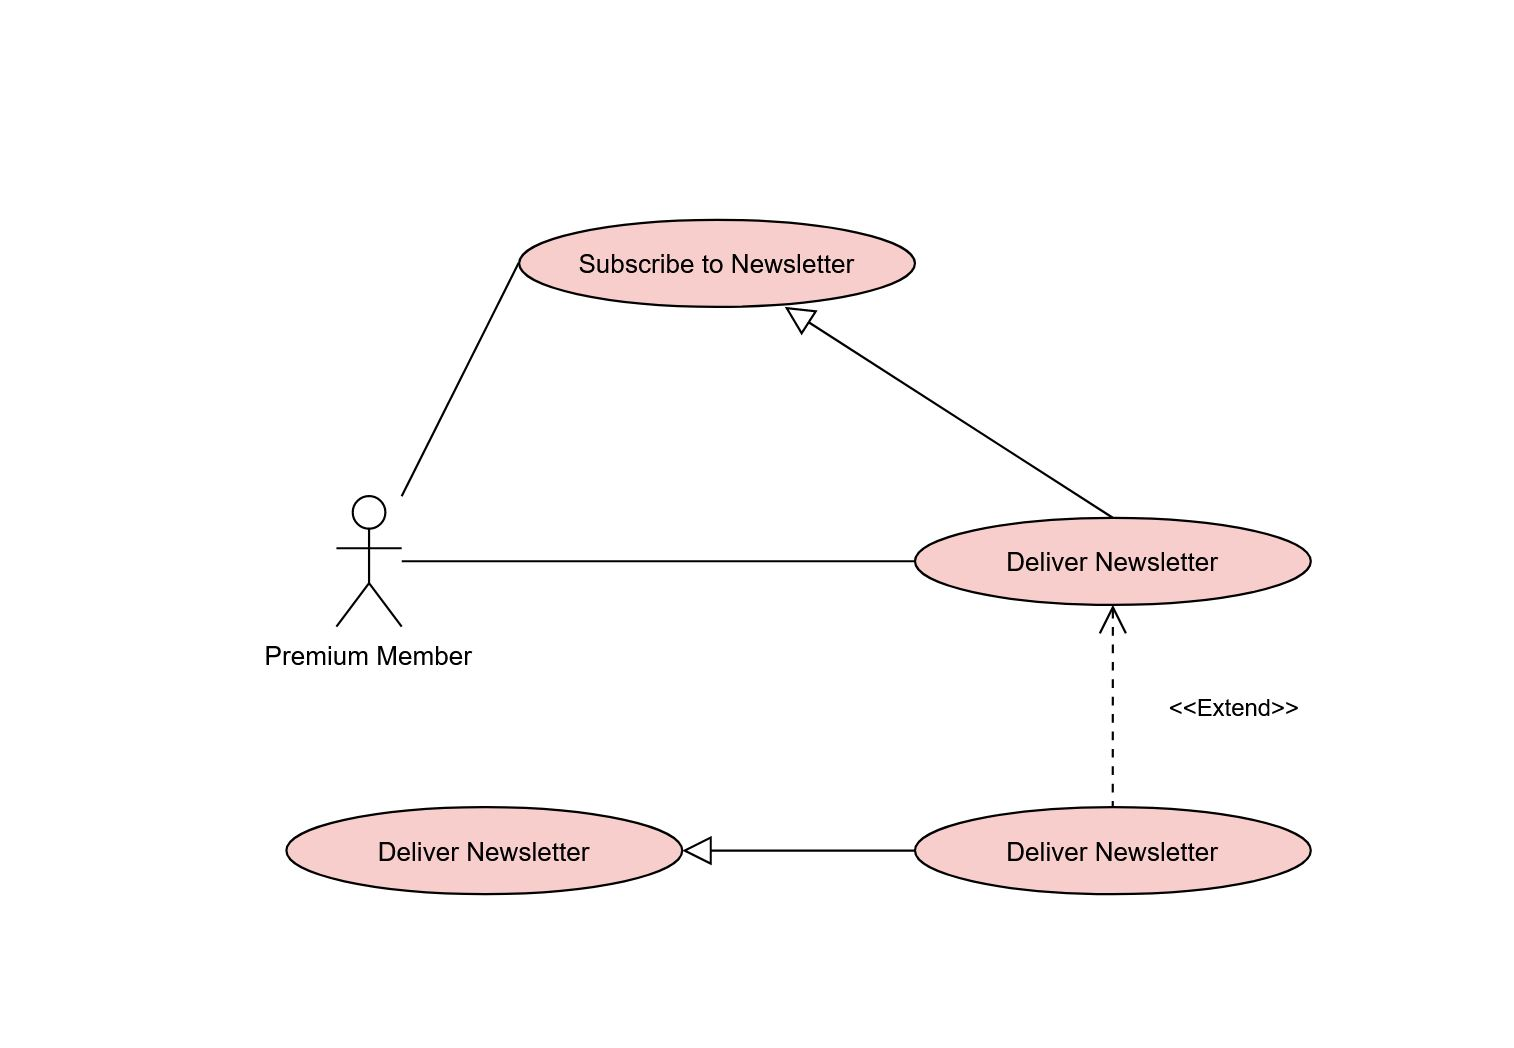actor: (327, 492, 410, 635)
association: (400, 262, 519, 499), (404, 544, 915, 571), (1098, 607, 1130, 805)
generalization: (783, 305, 1108, 515), (682, 832, 911, 869)
text: (576, 244, 854, 280), (1001, 831, 1234, 870), (360, 836, 597, 872), (257, 640, 479, 676), (1005, 545, 1219, 579), (1152, 697, 1323, 724)
use_case: (517, 215, 919, 312), (910, 803, 1314, 897), (284, 804, 688, 898), (911, 515, 1312, 609)
